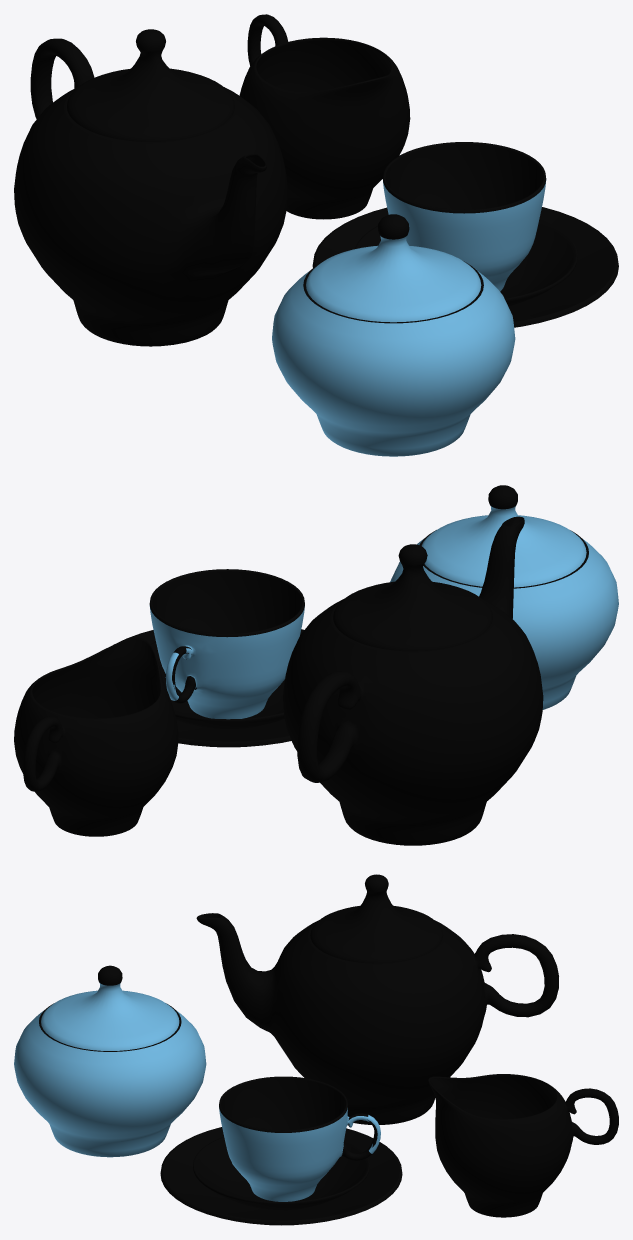
3 renders of one model, top to bottom at view 1: azimuth 30°, elevation 25°; view 2: azimuth 150°, elevation 25°; view 3: azimuth 270°, elevation 25°, orthographic. The views are drawn at different scales.
Visible parts, largest first — view 1: Tea_pot_01; view 2: Tea_pot_01; view 3: Tea_pot_01.
Part boxes in pixels (x1,y1,x2,y2): Tea_pot_01: (14, 14, 618, 456); Tea_pot_01: (14, 485, 618, 845); Tea_pot_01: (14, 874, 618, 1225).
Bounding box in the file's own units: 1.53 × 0.8369 × 2.
